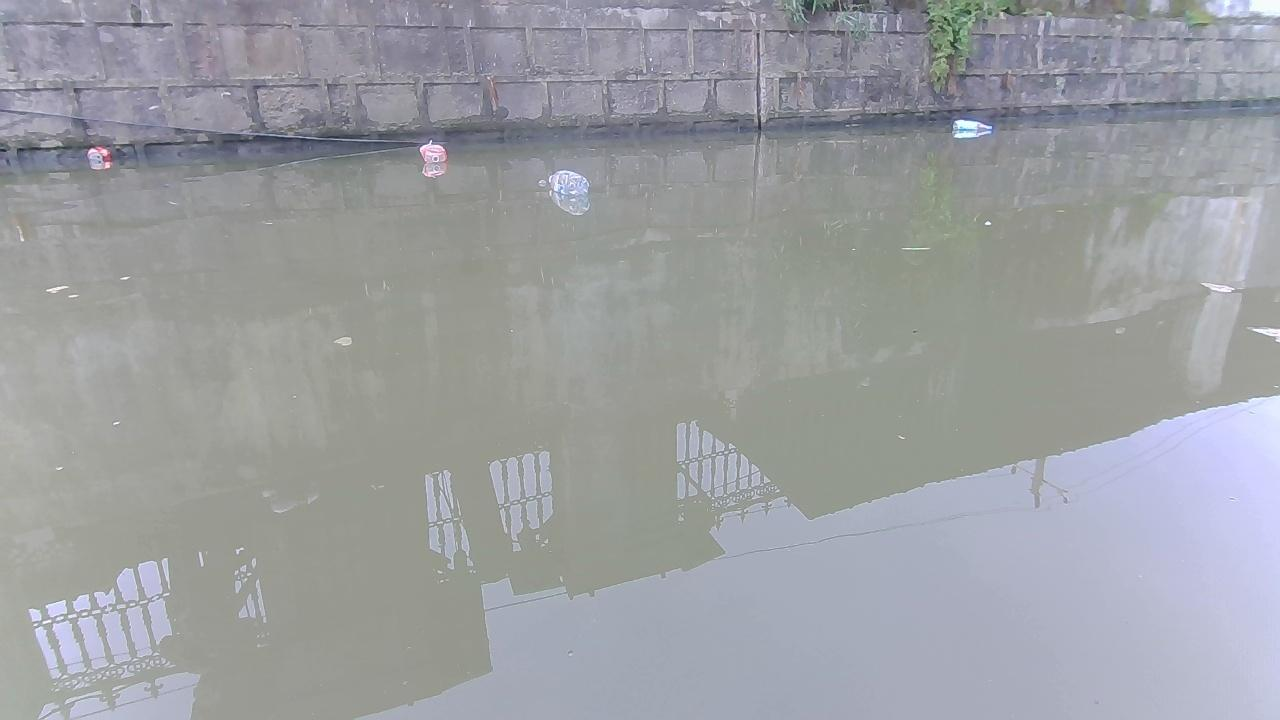bottle: (546, 170, 591, 196), (952, 118, 1000, 135), (421, 139, 447, 163), (85, 143, 111, 160)
